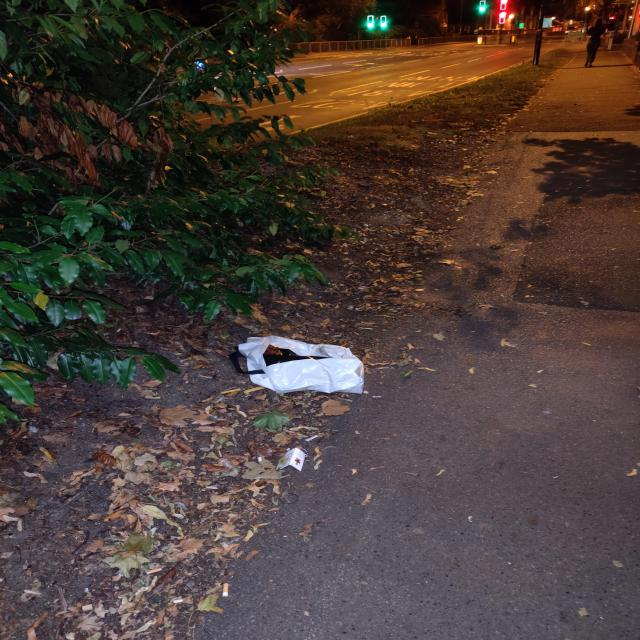litter: (228, 335, 365, 394), (277, 448, 307, 471), (223, 583, 229, 596), (307, 435, 319, 440), (148, 569, 161, 572), (173, 600, 182, 603)
